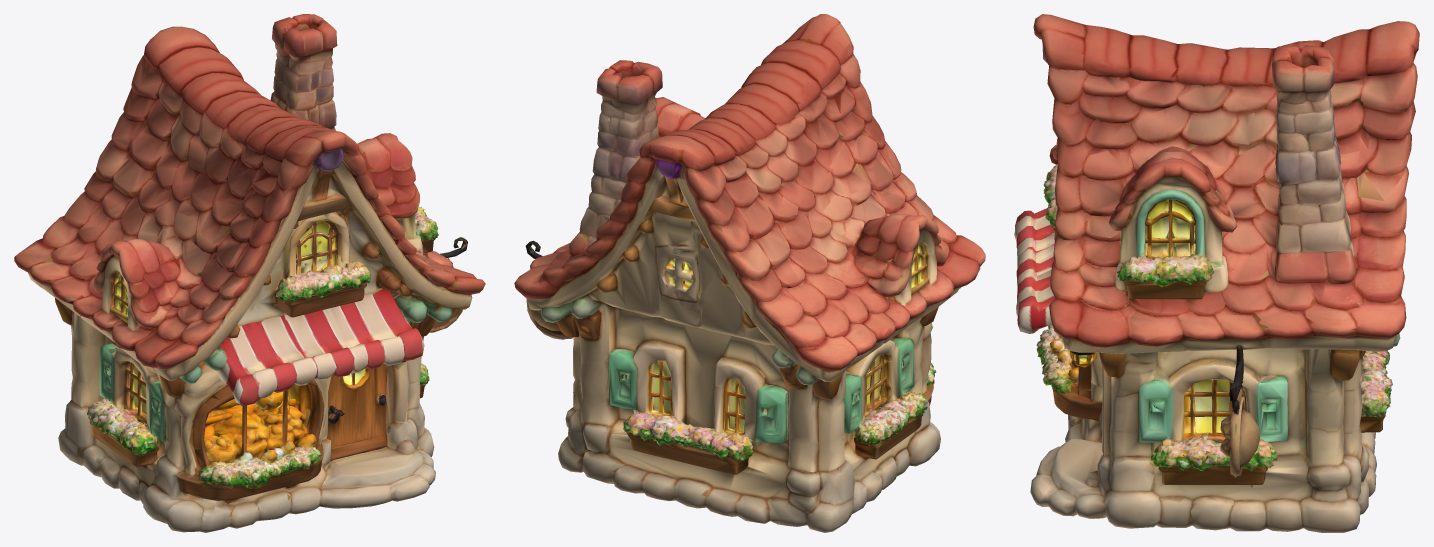
Rendered from house_bakery.glb.
The picture shows the model from 3 angles, left to right: view 1: azimuth 30°, elevation 25°; view 2: azimuth 150°, elevation 25°; view 3: azimuth 270°, elevation 25°; orthographic projection. The views are drawn at different scales.
Parts seen in each view (by area): view 1: Mesh_0; view 2: Mesh_0; view 3: Mesh_0.
Part boxes in pixels (x1=…): Mesh_0: x1=14, y1=14, x2=485, y2=532; Mesh_0: x1=514, y1=14, x2=985, y2=532; Mesh_0: x1=1014, y1=14, x2=1419, y2=532.
Size of the model in its own units: 1.9 by 1.84 by 1.48.
Materials: 1 (1 with a texture image).
